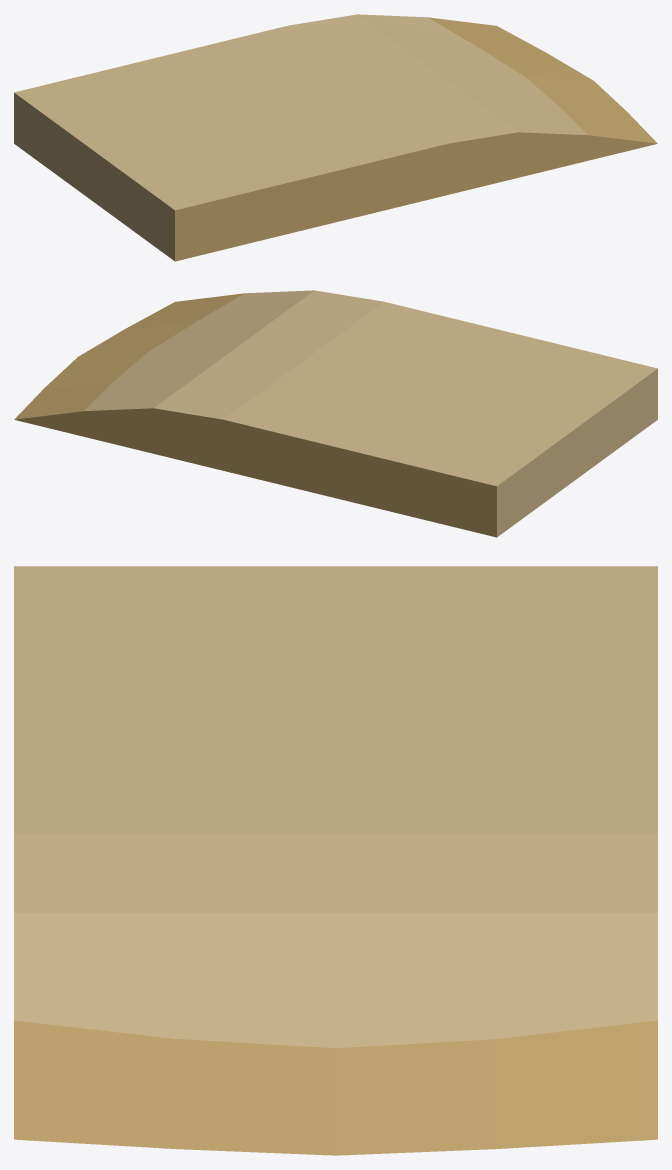
File: Sand_Slope01.FBX
3 renders of one model, top to bottom at view 1: azimuth 30°, elevation 25°; view 2: azimuth 150°, elevation 25°; view 3: azimuth 270°, elevation 25°, orthographic. The views are drawn at different scales.
Visible parts, largest first — view 1: Sand_Slope; view 2: Sand_Slope; view 3: Sand_Slope.
Boxes of the visible parts, bbox=[...] form: Sand_Slope: bbox=[14, 14, 657, 261]; Sand_Slope: bbox=[14, 290, 657, 537]; Sand_Slope: bbox=[14, 566, 657, 1155].
Bounding box in the file's own units: 4824 × 473 × 2696.
